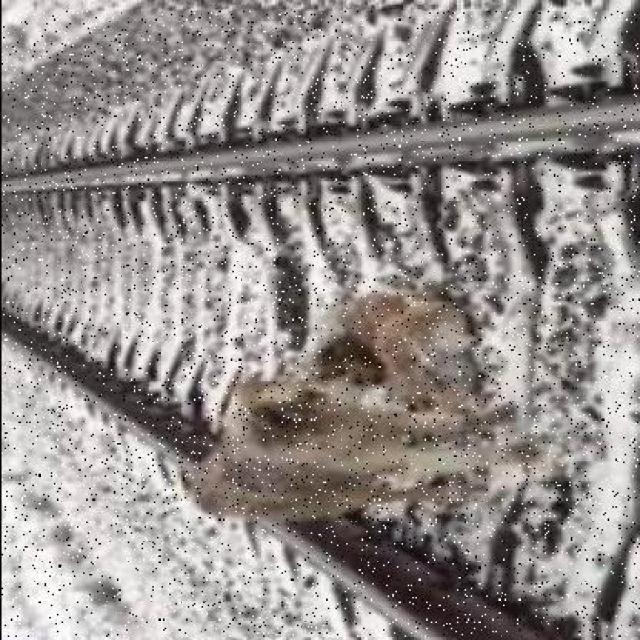rail: (2, 12, 639, 637)
